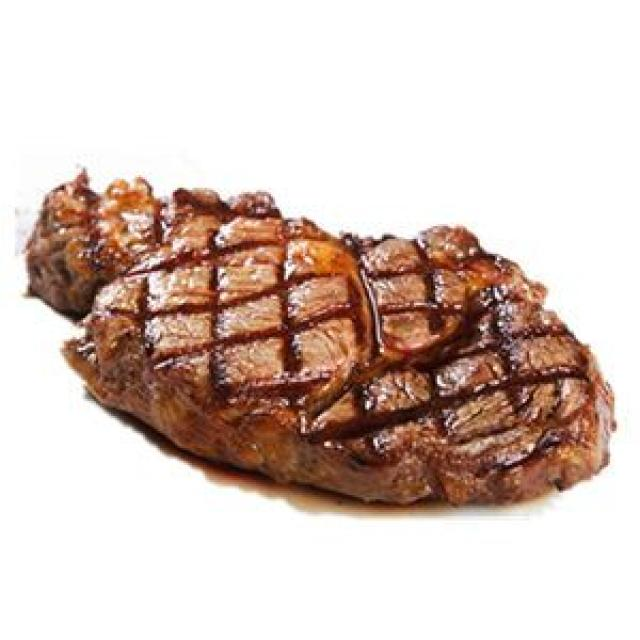beef steak: (28, 175, 612, 501)
